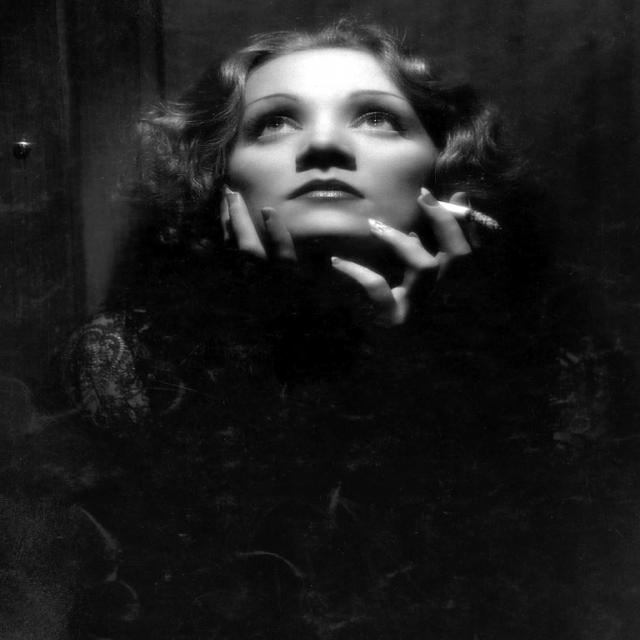cigarette: (439, 196, 502, 230)
